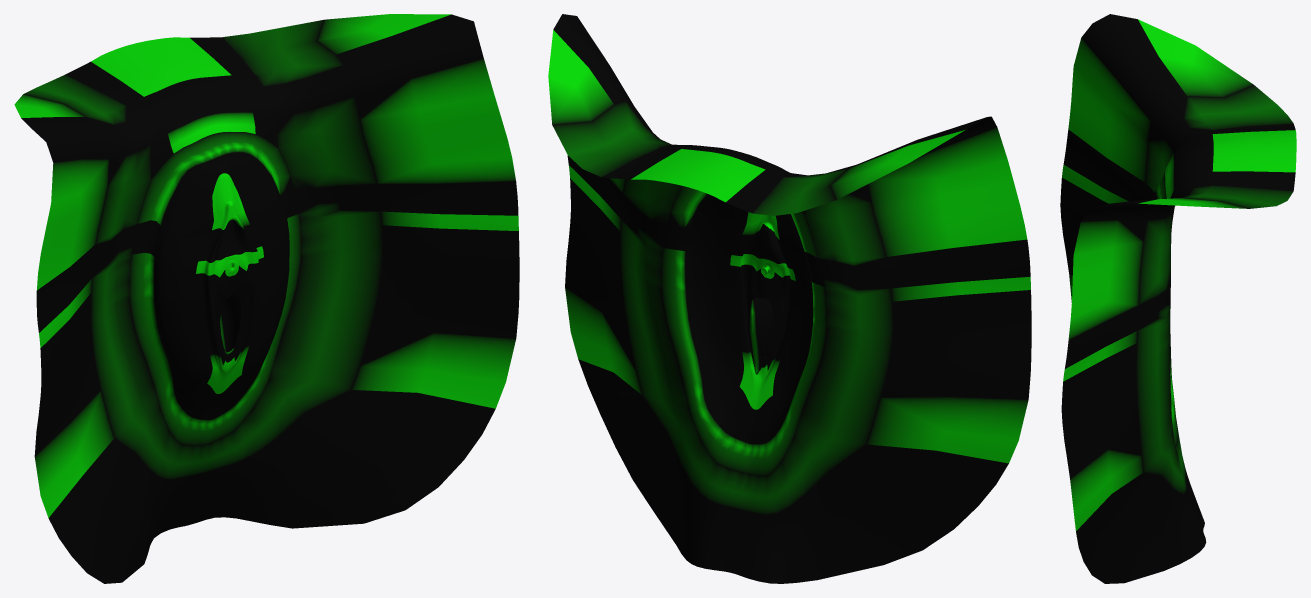
File: Clit.fbx
3 views of the same model, side by side, from view 1: azimuth 30°, elevation 25°; view 2: azimuth 150°, elevation 25°; view 3: azimuth 270°, elevation 25° (orthographic). The views are drawn at different scales.
Parts seen in each view (by area): view 1: Vagina; view 2: Vagina; view 3: Vagina.
Boxes of the visible parts, <box> form: Vagina: <box>14,14,519,583</box>; Vagina: <box>548,14,1031,583</box>; Vagina: <box>1060,14,1296,583</box>.
Bounding box in the file's own units: 135 × 132 × 65.42.
